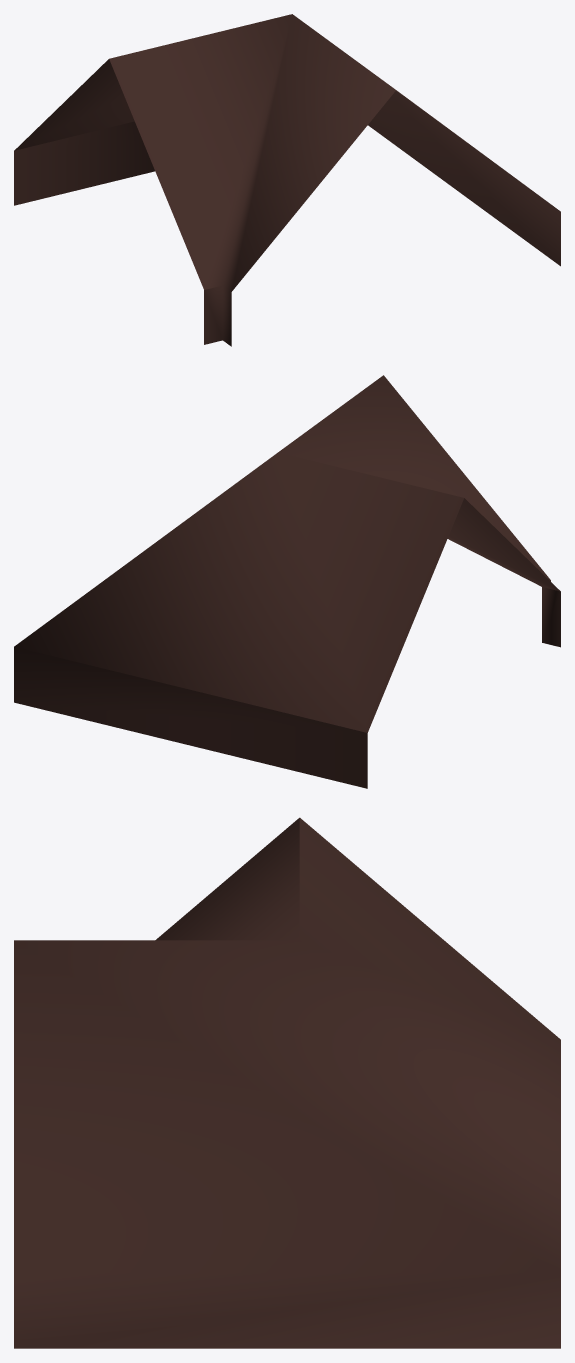
Rendered from Building_Angle_Roof_001_001.glb.
3 renders of one model, top to bottom at view 1: azimuth 30°, elevation 25°; view 2: azimuth 150°, elevation 25°; view 3: azimuth 270°, elevation 25°, orthographic. The views are drawn at different scales.
Parts seen in each view (by area): view 1: Building_Angle_Roof_001.001; view 2: Building_Angle_Roof_001.001; view 3: Building_Angle_Roof_001.001.
Boxes of the visible parts, <box> form: Building_Angle_Roof_001.001: <box>14,14,560,346</box>; Building_Angle_Roof_001.001: <box>14,375,560,788</box>; Building_Angle_Roof_001.001: <box>14,817,560,1348</box>.
Bounding box in the file's own units: 6.87 × 4.09 × 6.81.
1 material, 1 textured.
